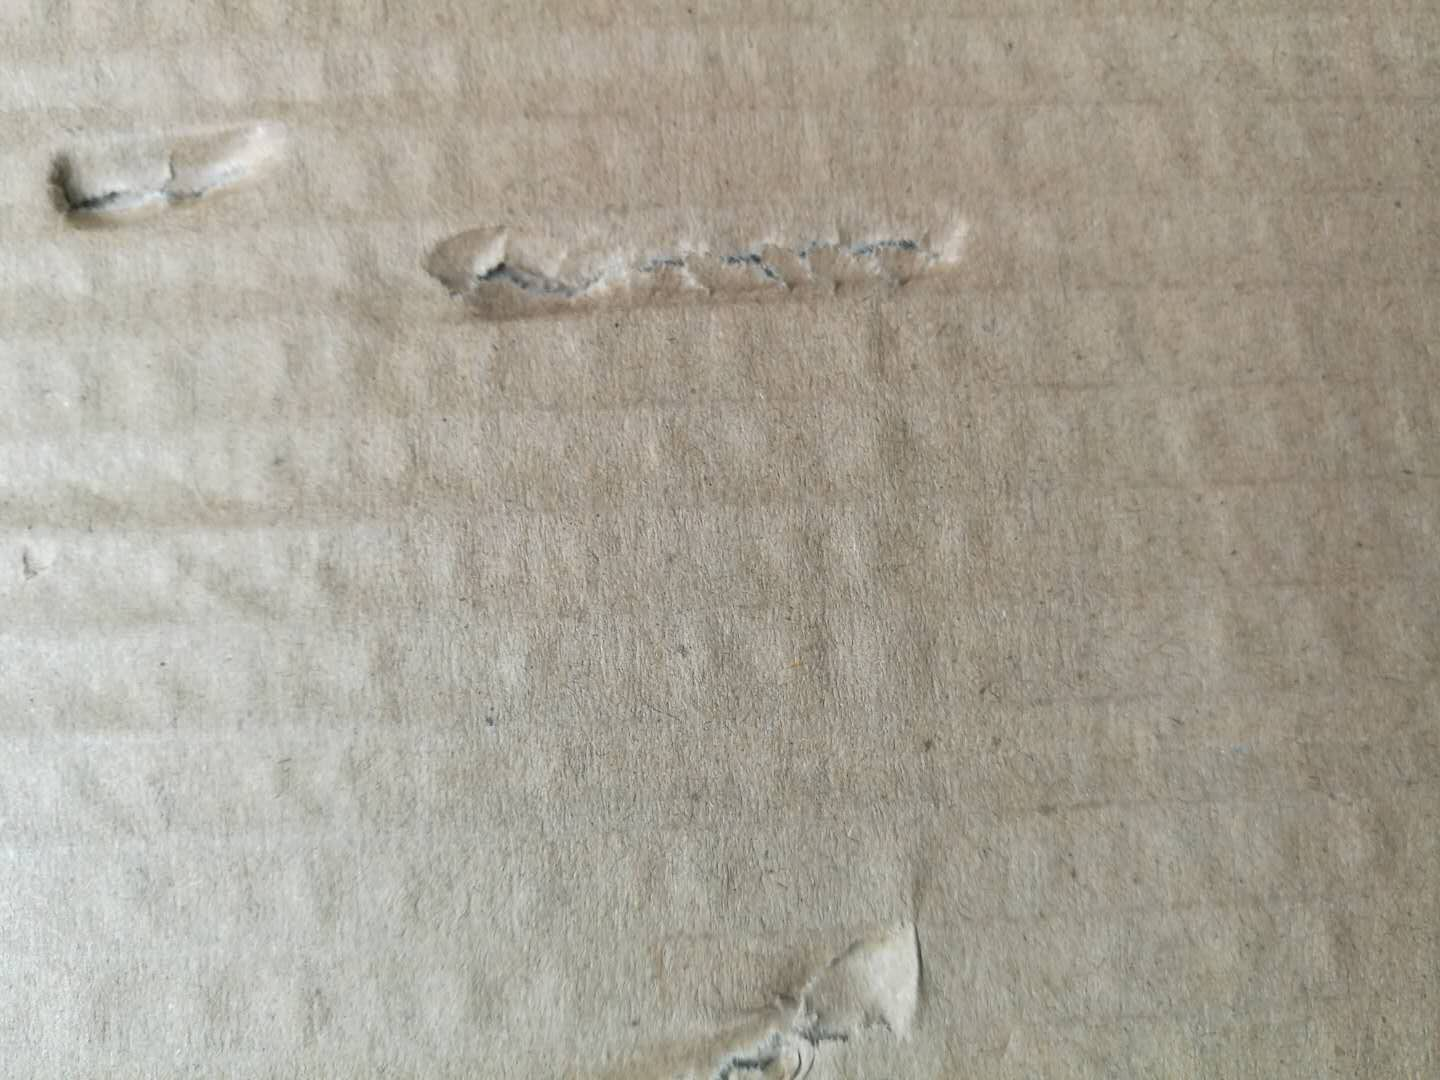defect: (398, 179, 1022, 341), (605, 900, 956, 1080), (28, 100, 321, 238)
